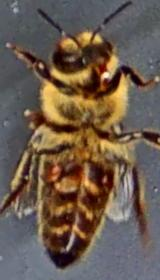varroa_mite: (36, 157, 68, 187), (90, 161, 119, 194)
